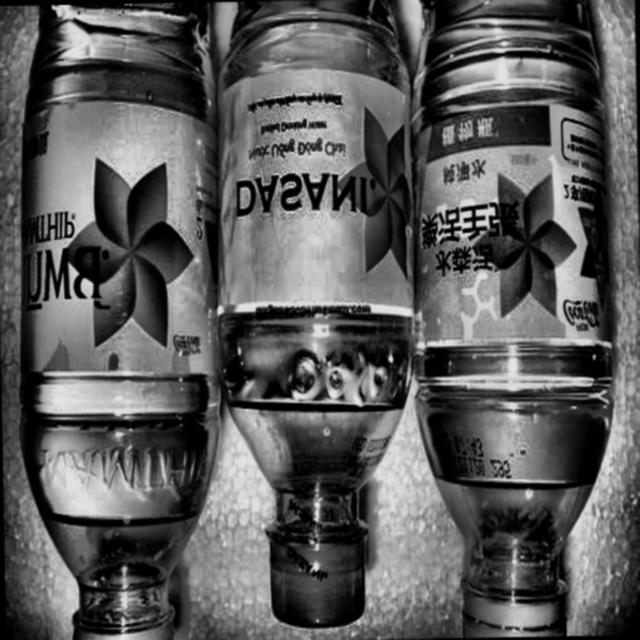waterbottle: (203, 0, 437, 636), (6, 1, 237, 640), (403, 0, 623, 638)
